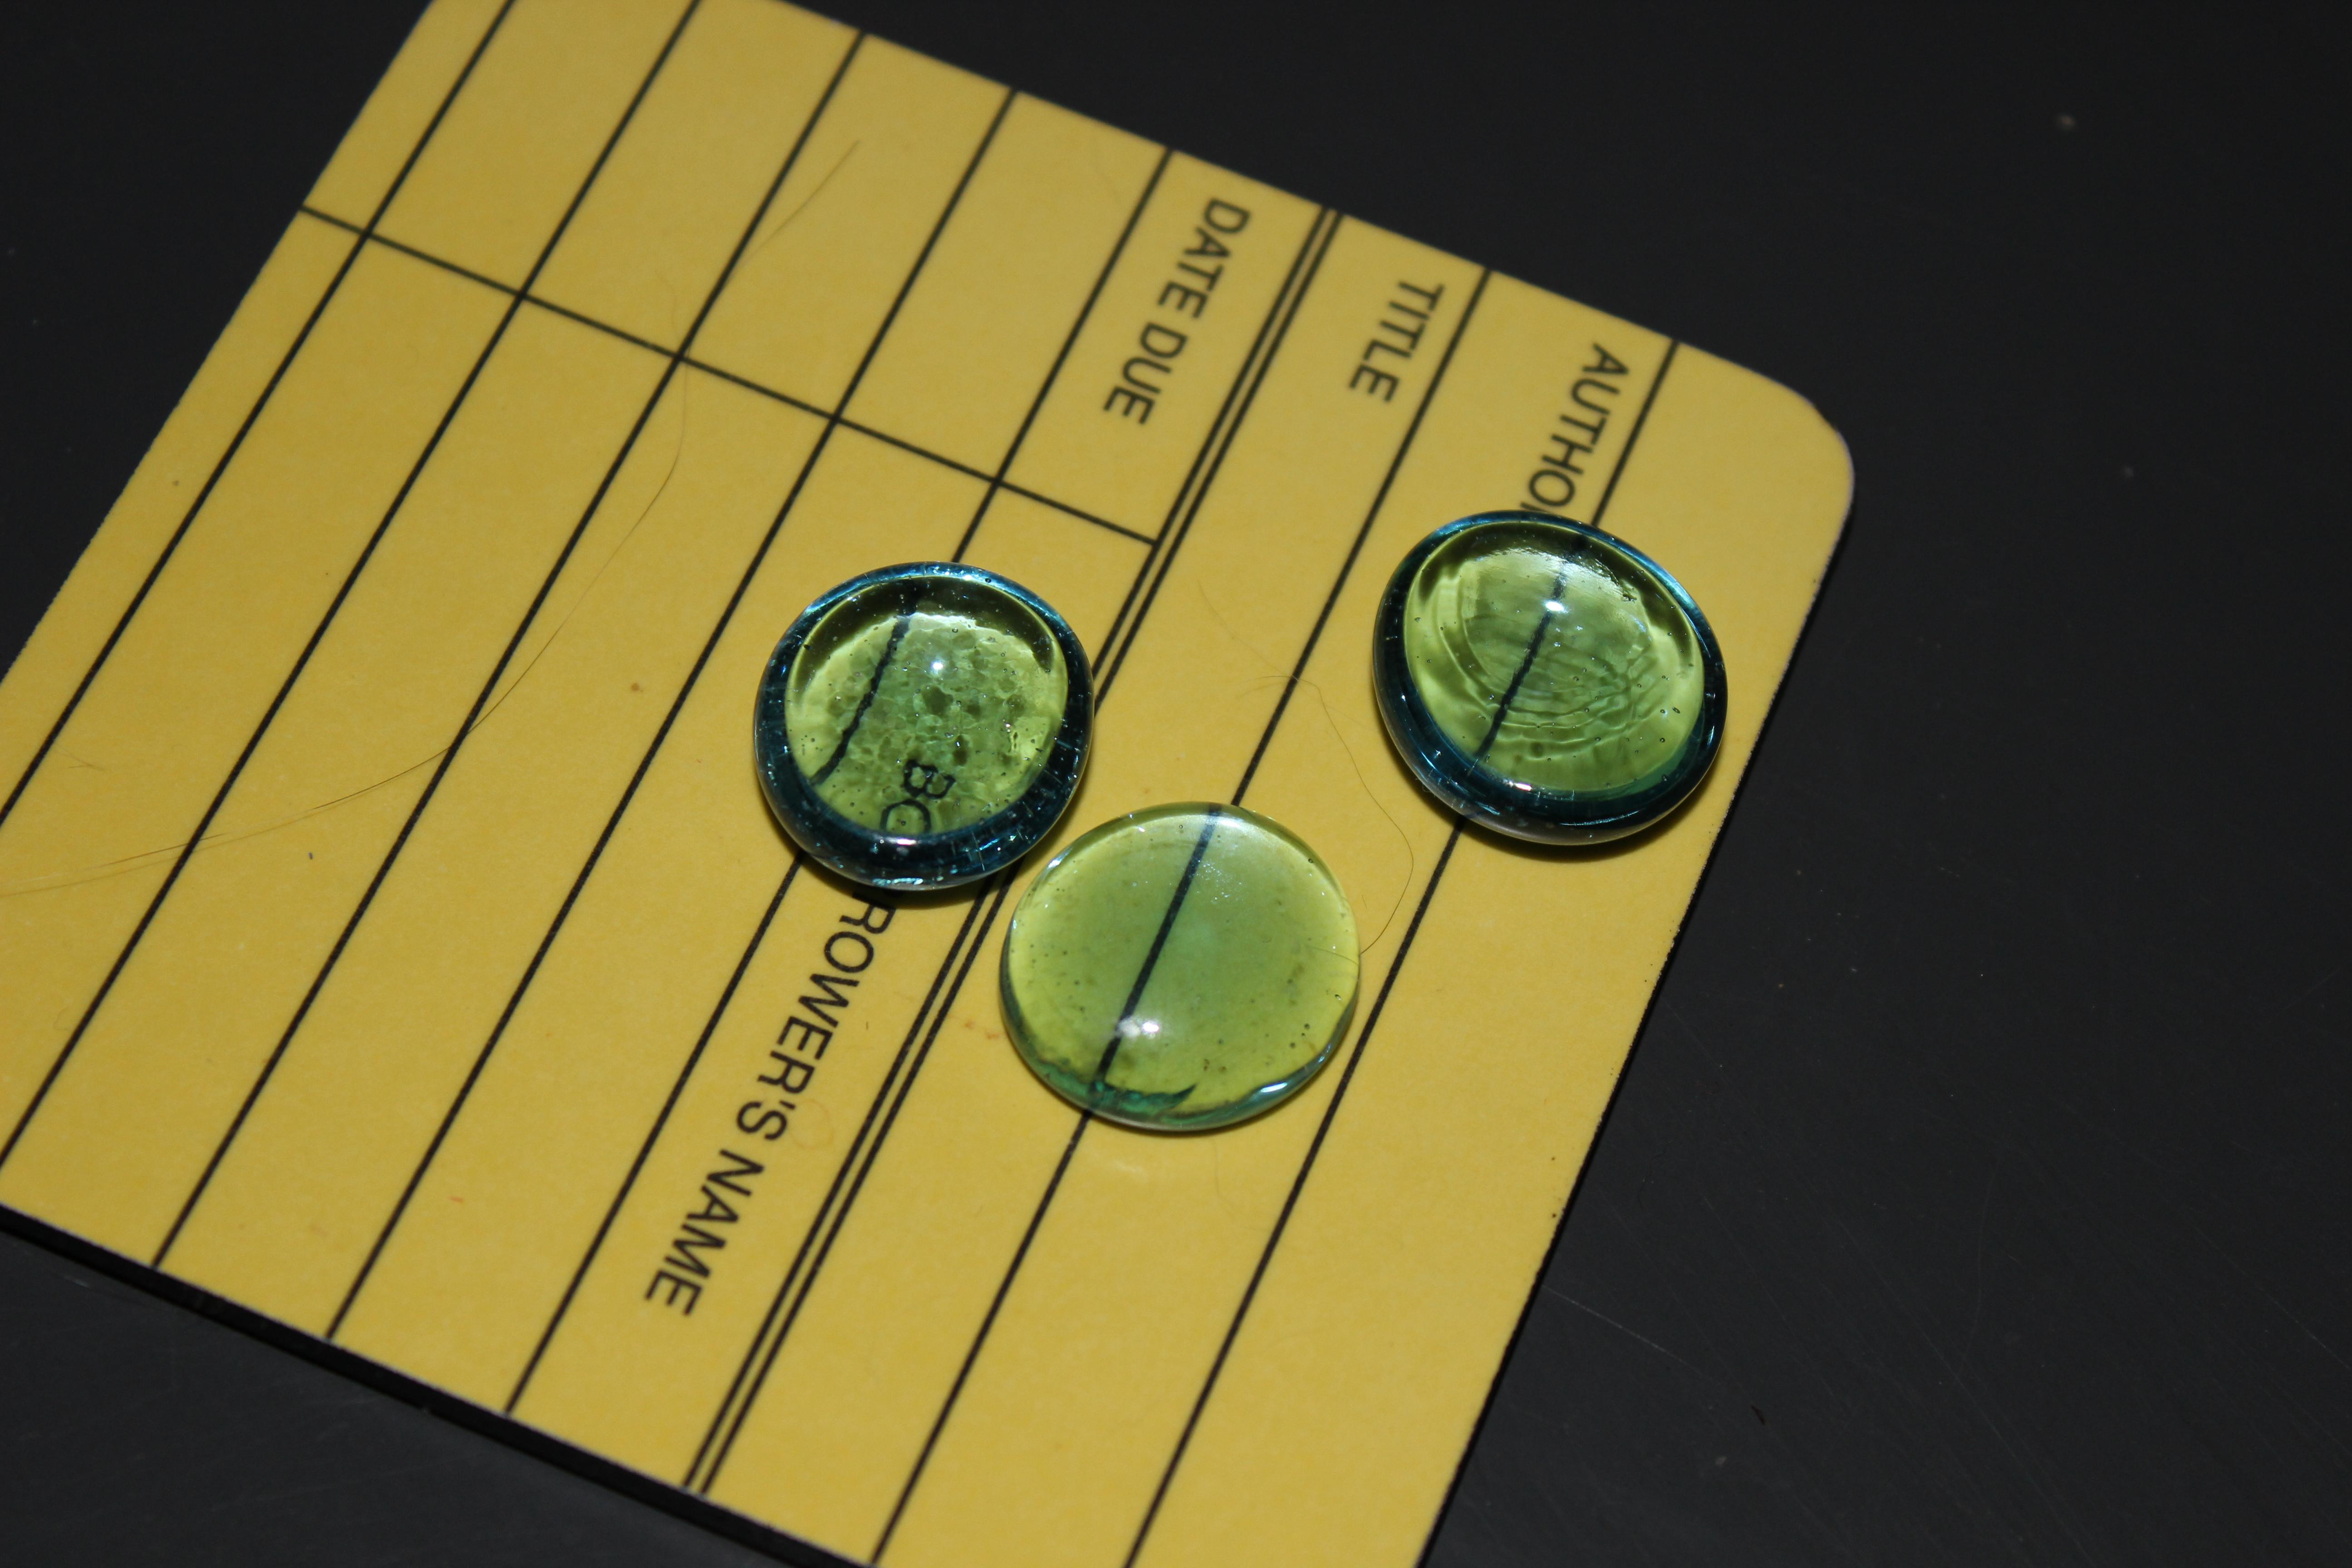glassBead: (976, 777, 1377, 1160), (1344, 490, 1745, 873), (724, 544, 1123, 927)
